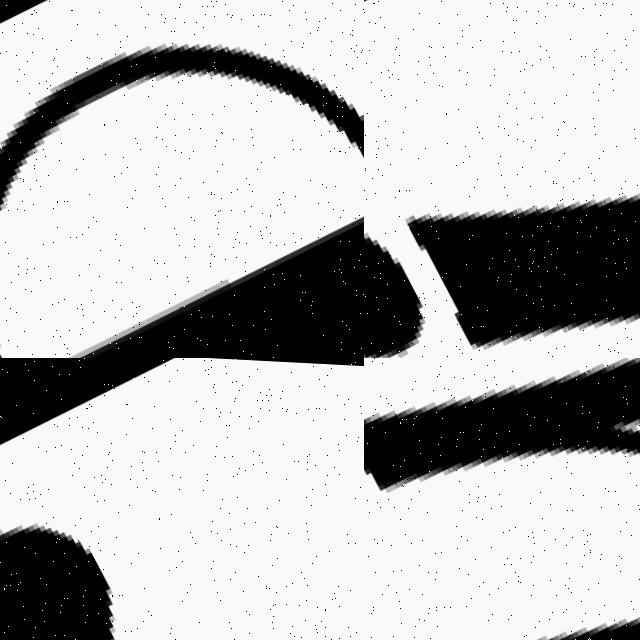I: (364, 18, 640, 358)
O: (0, 35, 364, 358)
R: (0, 358, 364, 640)
U: (364, 358, 640, 640)
